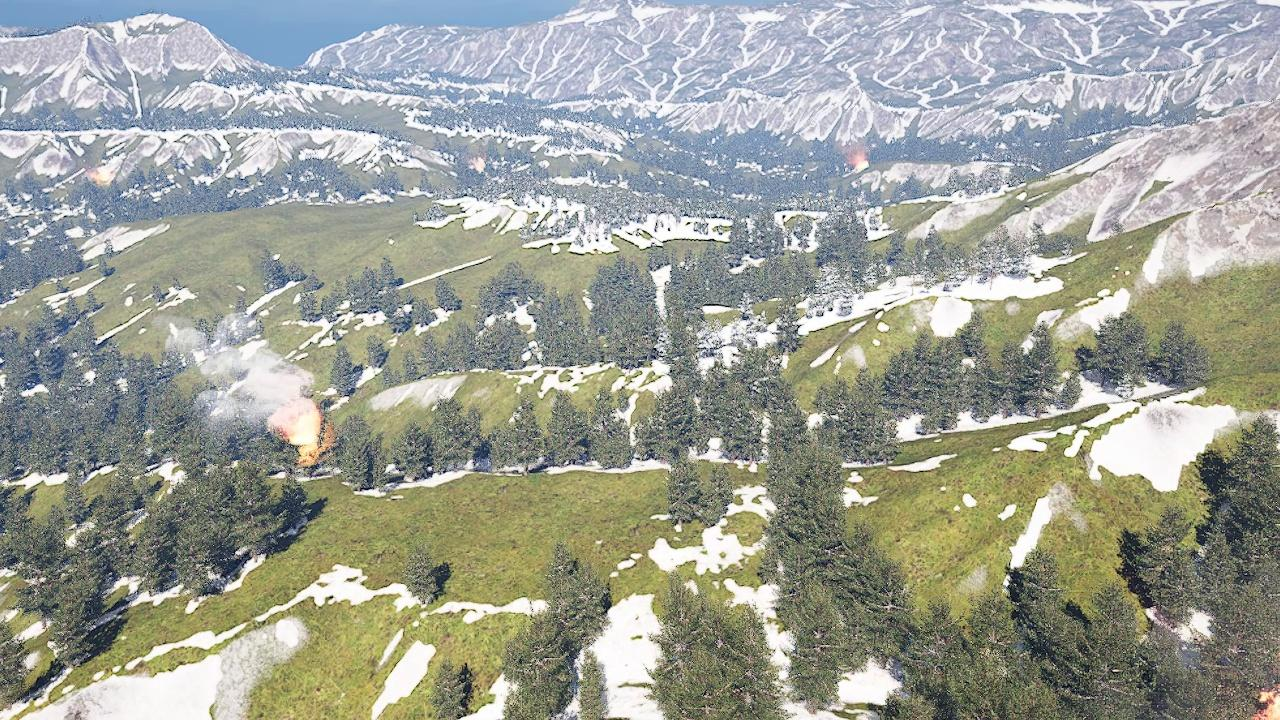fire: (286, 405, 323, 450), (1254, 692, 1280, 720), (91, 166, 115, 186), (850, 152, 869, 170), (470, 155, 488, 174)
smoke: (161, 315, 314, 430), (836, 127, 871, 160)
